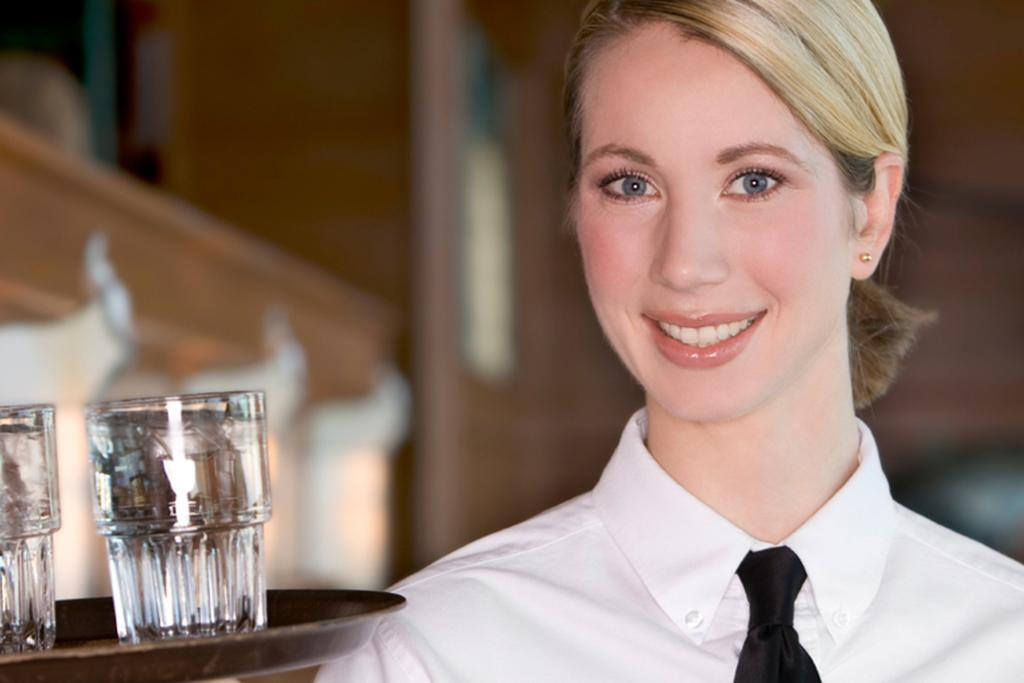face: (572, 24, 848, 424)
